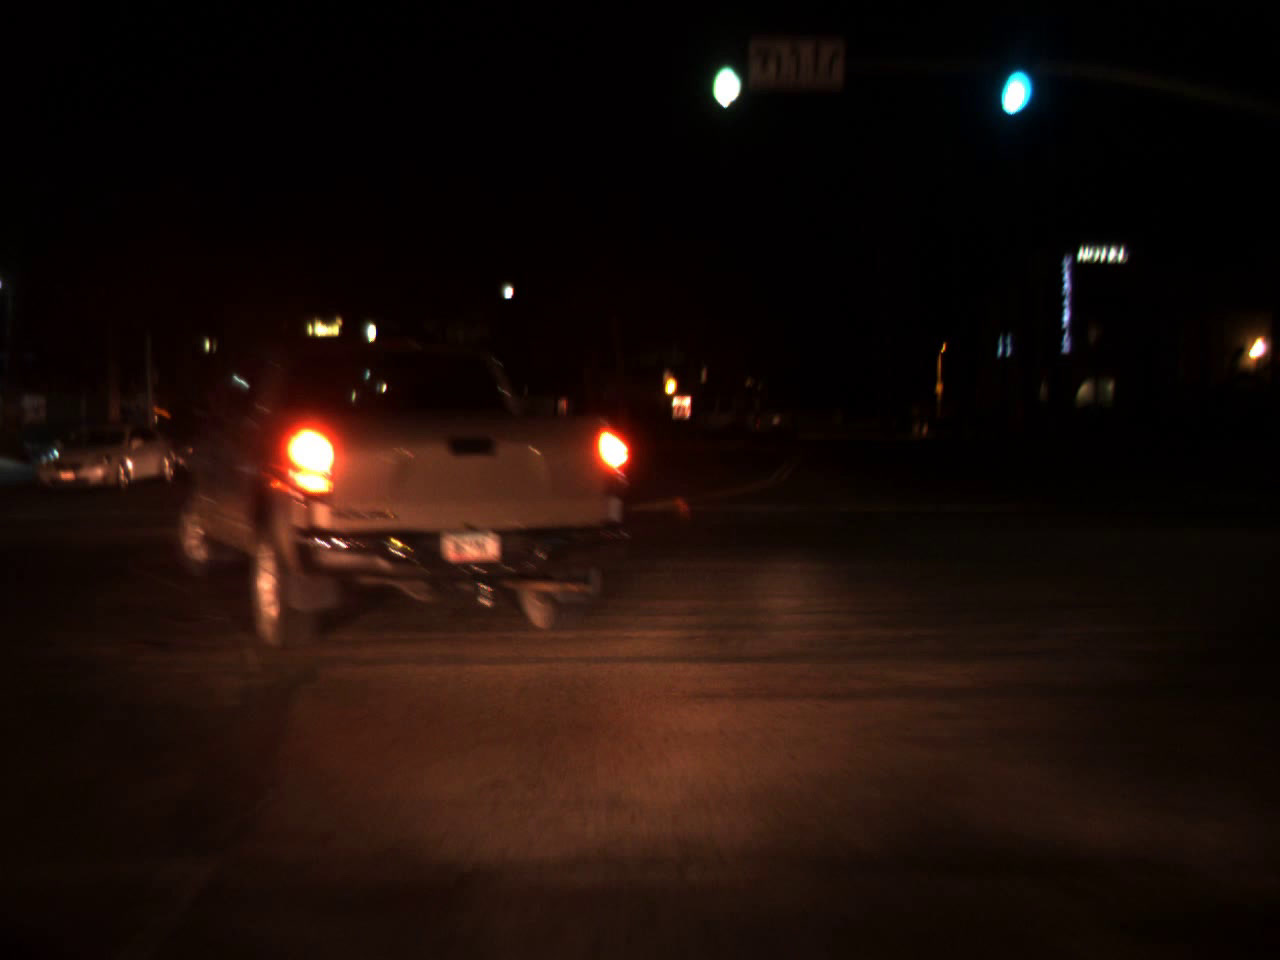go: (995, 44, 1029, 122), (702, 49, 747, 106)
